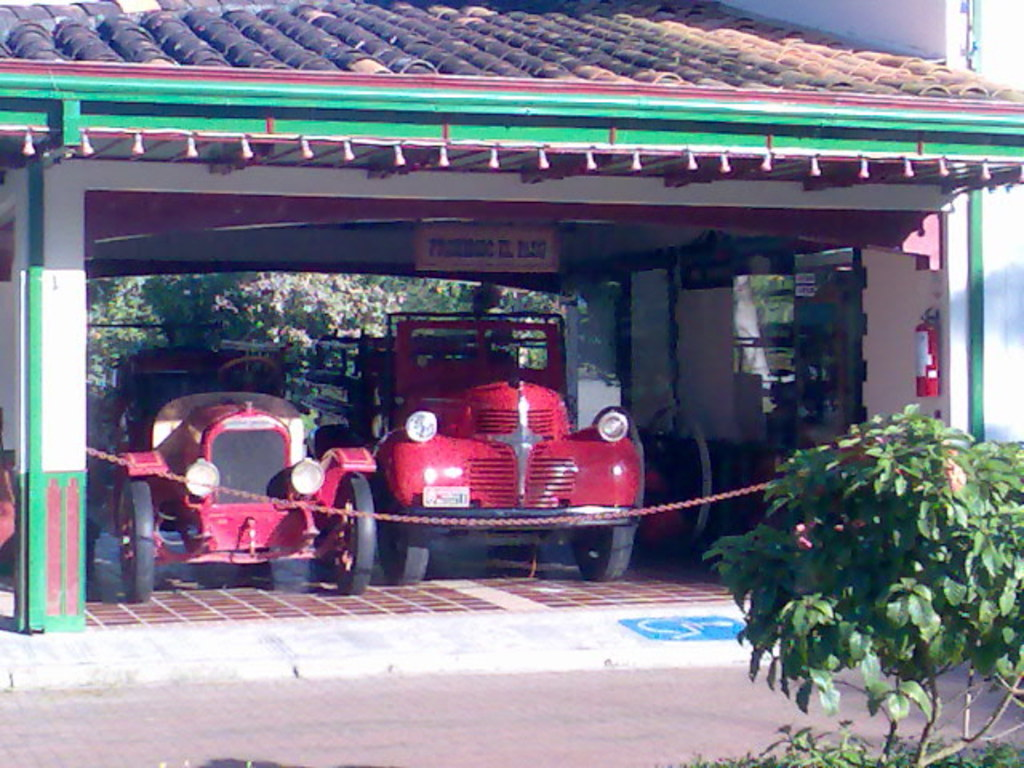Car: (305, 307, 646, 587), (103, 334, 379, 606)
